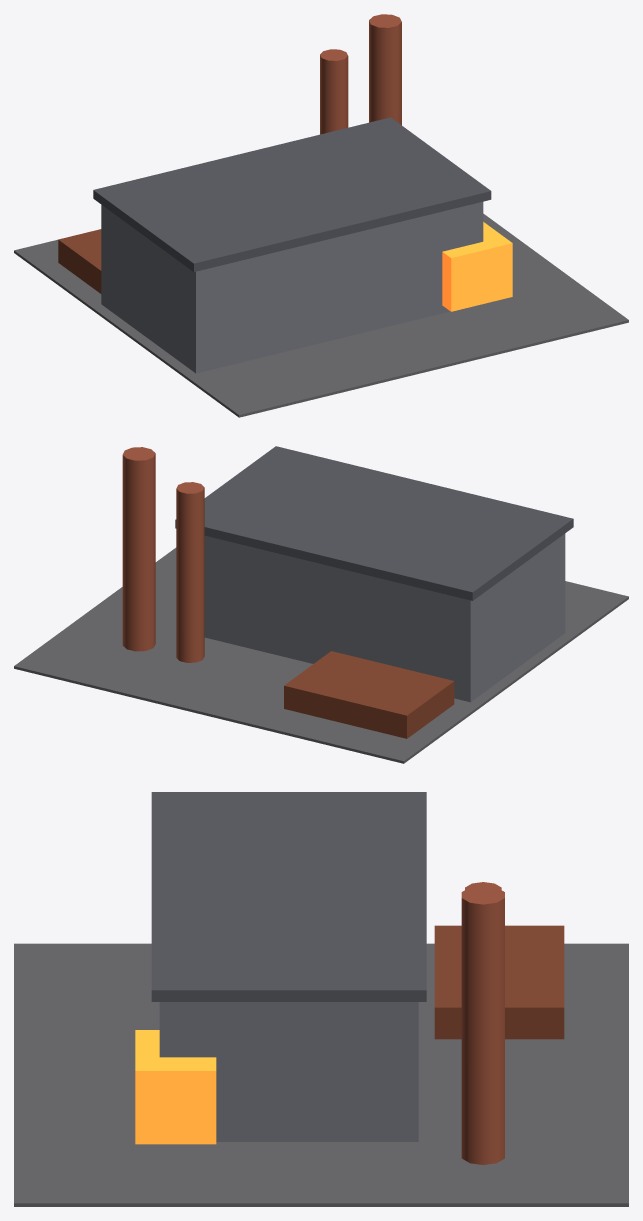
The model's file is steel_mill.glb.
3 renders of one model, top to bottom at view 1: azimuth 30°, elevation 25°; view 2: azimuth 150°, elevation 25°; view 3: azimuth 270°, elevation 25°, orthographic. The views are drawn at different scales.
Visible parts, largest first — view 1: Shed, ShedRoof, Pad, Furnace, Stack1, Stack2, Stockyard; view 2: Shed, ShedRoof, Pad, Stockyard, Stack1, Stack2; view 3: Pad, ShedRoof, Shed, Stack1, Stockyard, Furnace.
Boxes of the visible parts, x1,y1,x2,y2 form: Shed: [101, 202, 483, 373]; ShedRoof: [93, 117, 491, 271]; Pad: [14, 213, 628, 417]; Furnace: [442, 222, 512, 311]; Stack1: [369, 14, 401, 125]; Stack2: [320, 49, 348, 134]; Stockyard: [58, 229, 101, 293]; Shed: [204, 533, 565, 702]; ShedRoof: [175, 446, 573, 600]; Pad: [14, 547, 628, 763]; Stockyard: [284, 651, 454, 738]; Stack1: [122, 447, 155, 651]; Stack2: [176, 482, 204, 662]; Pad: [14, 943, 628, 1206]; ShedRoof: [151, 792, 426, 1001]; Shed: [159, 1002, 418, 1141]; Stack1: [461, 885, 504, 1164]; Stockyard: [434, 925, 564, 1039]; Furnace: [135, 1030, 216, 1144].
Bounding box in the file's own units: 3.8 × 1.8 × 3.8.
